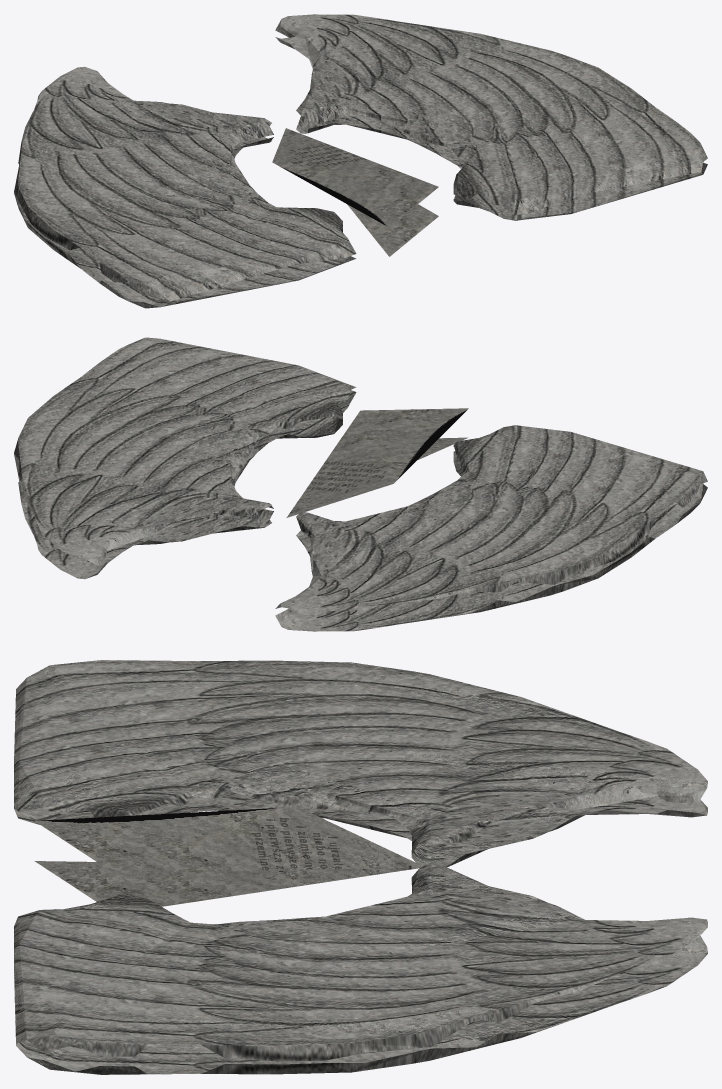
Rendered from ZonaMemorial_LOD2.FBX.
3 renders of one model, top to bottom at view 1: azimuth 30°, elevation 25°; view 2: azimuth 150°, elevation 25°; view 3: azimuth 270°, elevation 25°, orthographic. The views are drawn at different scales.
Parts seen in each view (by area): view 1: LeftWingFront002, StoneFront002; view 2: LeftWingFront002, StoneFront002; view 3: LeftWingFront002, StoneFront002.
Boxes of the visible parts, x1,y1,x2,y2 form: LeftWingFront002: (14, 14, 707, 308); StoneFront002: (272, 128, 438, 256); LeftWingFront002: (14, 337, 707, 631); StoneFront002: (286, 408, 468, 517); LeftWingFront002: (14, 660, 707, 1074); StoneFront002: (34, 807, 422, 906).
Size of the model in its own units: 295 by 14.12 by 221.
3 materials, 3 textured.
